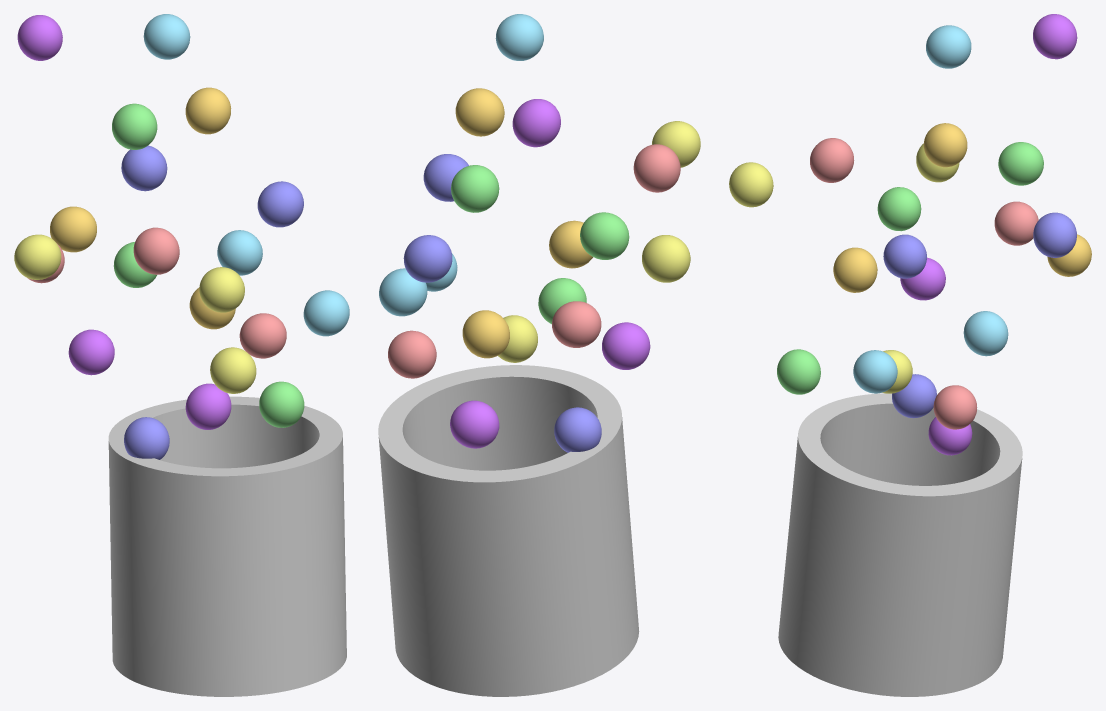
File: Bubble_maker_2023-01-14_16.30.45.gltf
3 renders of one model, left to right at view 1: azimuth 30°, elevation 25°; view 2: azimuth 150°, elevation 25°; view 3: azimuth 270°, elevation 25°, orthographic. The views are drawn at different scales.
Parts seen in each view (by area): view 1: Tube 4, Spherabox 1, Spherabox 3, Spherabox 2, Spherabox 19, Spherabox 16, Spherabox 20, Spherabox 21, Spherabox 18, Spherabox 8, Spherabox 6, Spherabox 5 (+9 smaller); view 2: Tube 4, Spherabox 17, Spherabox 16, Spherabox 22, Spherabox 15, Spherabox 20, Spherabox 19, Spherabox 10, Spherabox 11, Spherabox 6, Spherabox 5, Spherabox 2 (+9 smaller); view 3: Tube 4, Spherabox 13, Spherabox 14, Spherabox 15, Spherabox 9, Spherabox 12, Spherabox 6, Spherabox 10, Spherabox 8, Spherabox 1, Spherabox 16, Spherabox 20 (+10 smaller).
Boxes of the visible parts, <box> form: Tube 4: <box>108,396,346,696</box>; Spherabox 1: <box>133,227,179,274</box>; Spherabox 3: <box>210,347,256,393</box>; Spherabox 2: <box>50,206,96,252</box>; Spherabox 19: <box>14,234,61,279</box>; Spherabox 16: <box>185,87,231,134</box>; Spherabox 20: <box>239,313,286,358</box>; Spherabox 21: <box>257,181,303,227</box>; Spherabox 18: <box>303,290,349,336</box>; Spherabox 8: <box>143,14,190,59</box>; Spherabox 6: <box>112,103,157,149</box>; Spherabox 5: <box>68,329,114,375</box>; Tube 4: <box>378,365,639,696</box>; Spherabox 17: <box>450,400,499,448</box>; Spherabox 16: <box>455,88,504,136</box>; Spherabox 22: <box>580,212,629,259</box>; Spherabox 15: <box>512,99,560,147</box>; Spherabox 20: <box>388,330,436,378</box>; Spherabox 19: <box>642,235,690,282</box>; Spherabox 10: <box>403,235,452,282</box>; Spherabox 11: <box>552,301,601,347</box>; Spherabox 6: <box>451,165,499,212</box>; Spherabox 5: <box>602,322,650,369</box>; Spherabox 2: <box>462,310,509,358</box>; Tube 4: <box>778,393,1022,696</box>; Spherabox 13: <box>963,311,1008,356</box>; Spherabox 14: <box>833,247,877,292</box>; Spherabox 15: <box>1033,14,1077,59</box>; Spherabox 9: <box>777,349,820,394</box>; Spherabox 12: <box>729,162,773,207</box>; Spherabox 6: <box>998,142,1043,185</box>; Spherabox 10: <box>1033,212,1076,257</box>; Spherabox 8: <box>926,25,971,68</box>; Spherabox 1: <box>810,138,854,182</box>; Spherabox 16: <box>923,123,967,167</box>; Spherabox 20: <box>933,385,977,429</box>.
Bounding box in the file's own units: 1.82 × 3.72 × 2.
